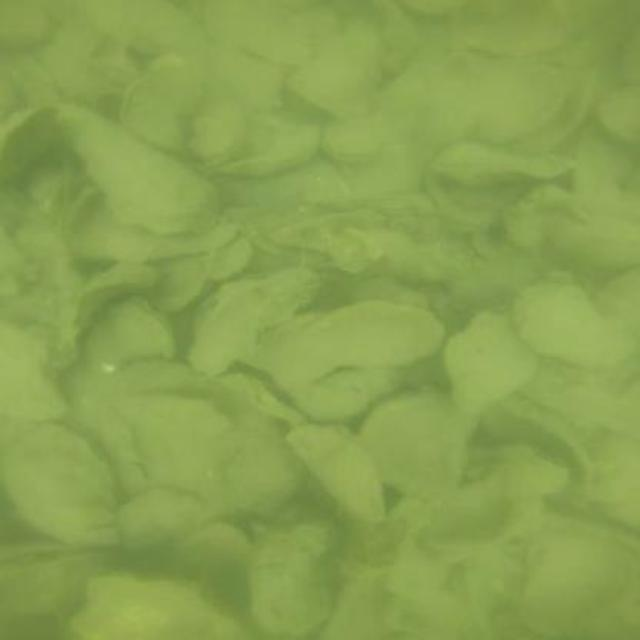Oyster-Closed: (64, 109, 216, 233), (256, 301, 442, 379), (104, 396, 234, 506), (192, 267, 324, 371), (513, 530, 638, 638), (7, 422, 117, 543), (68, 572, 250, 638), (359, 389, 464, 496), (248, 513, 338, 636), (74, 200, 247, 262), (452, 58, 570, 146), (70, 0, 213, 67), (287, 424, 382, 524), (445, 310, 536, 414), (515, 279, 623, 365), (293, 17, 384, 118), (120, 56, 200, 154), (0, 318, 74, 421), (199, 120, 322, 179), (88, 297, 177, 369), (472, 440, 572, 501), (296, 368, 412, 420), (118, 487, 209, 551), (457, 2, 564, 54), (226, 431, 296, 508), (189, 97, 242, 164), (318, 121, 389, 163)
Oyster-Open: (433, 142, 587, 187), (214, 358, 303, 420)
